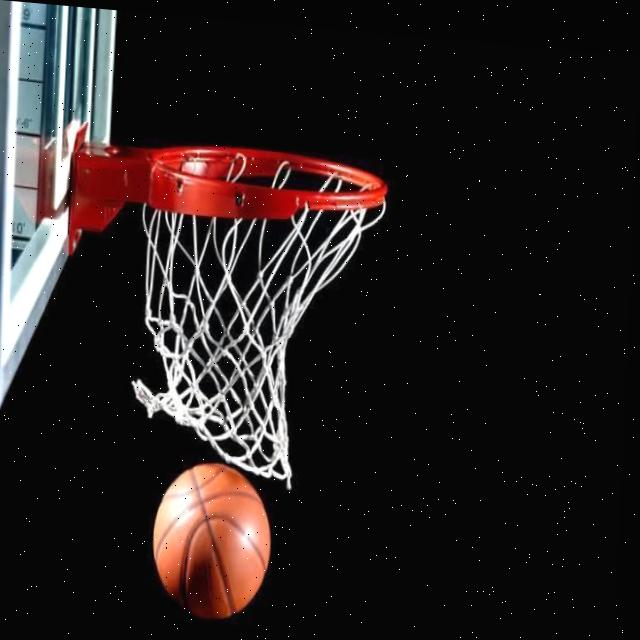basketball: (147, 455, 278, 629)
hoop: (122, 123, 393, 500)
